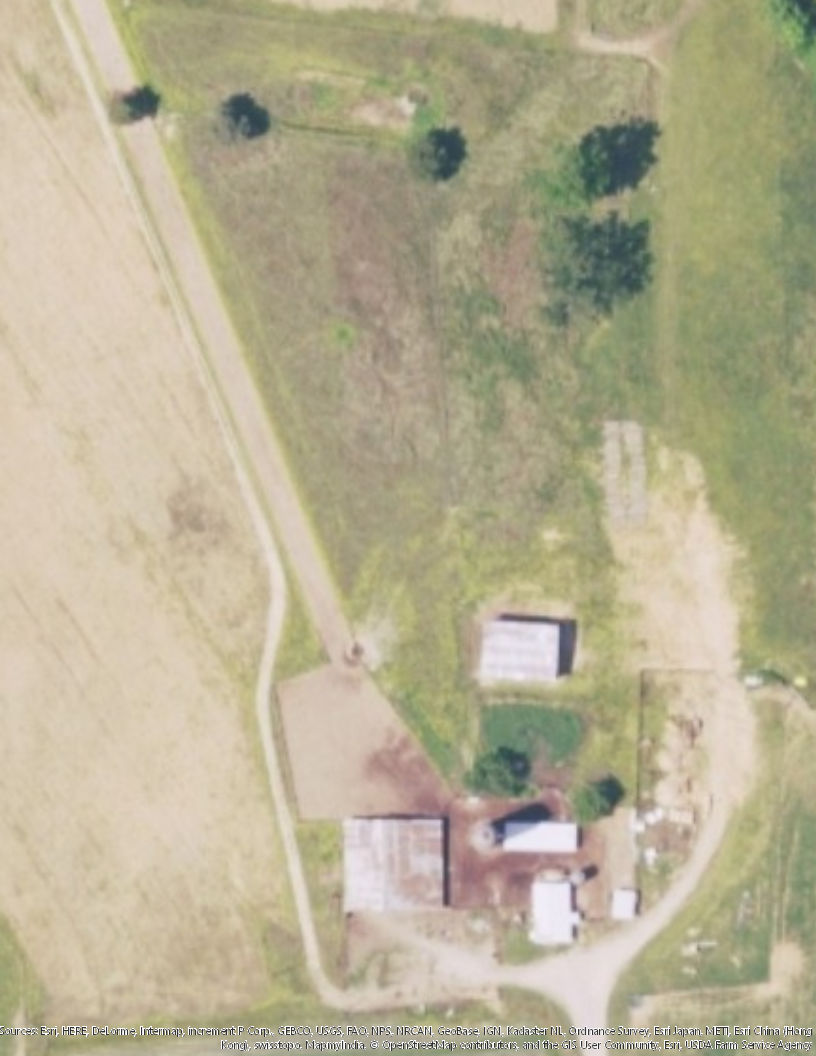cafo: (331, 768, 661, 944), (476, 616, 570, 685)
